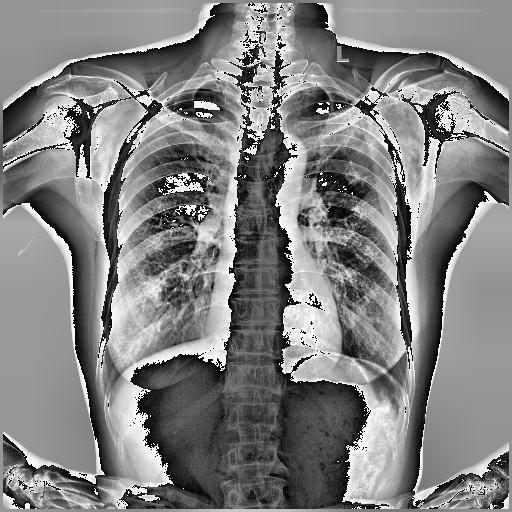11- Pleural thickening: (332, 86, 364, 108)
13- Pulmonary fibrosis: (334, 117, 379, 184), (348, 112, 377, 184), (344, 118, 370, 144), (346, 158, 368, 184), (120, 175, 146, 186)
